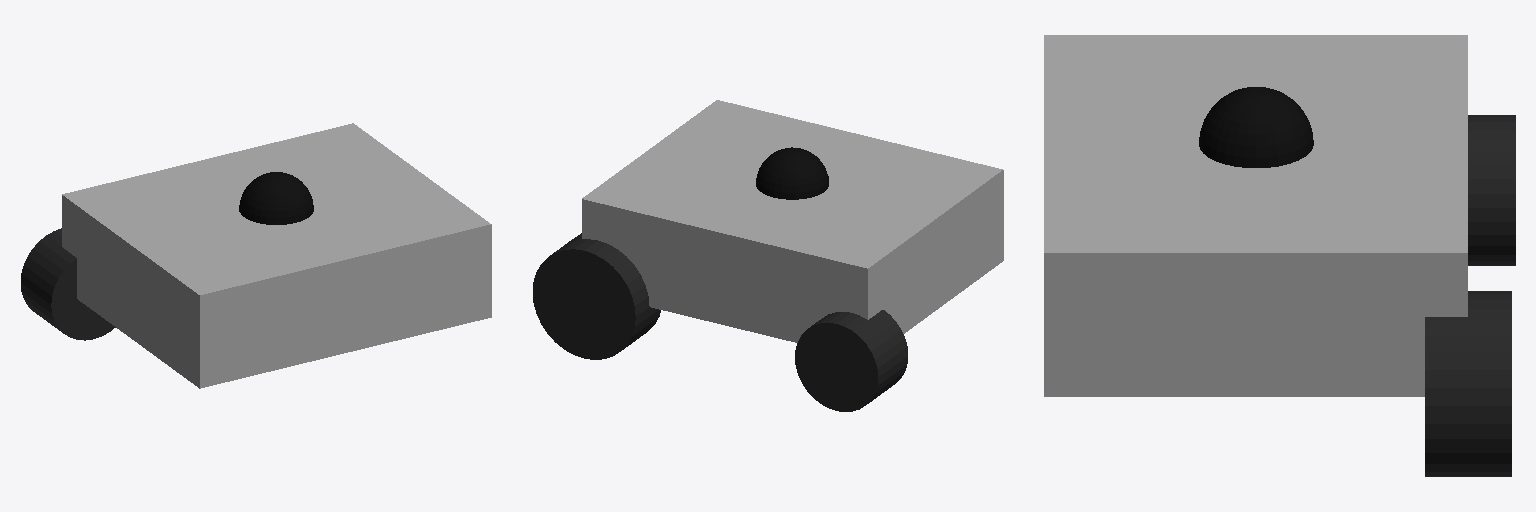
The robot description file, URDF, robot "evolved_robot":
<?xml version="1.0"?>
<robot name="evolved_robot">
  <material name="metal">
    <color rgba="0.7 0.7 0.7 1.0"/>
  </material>
  <material name="plastic">
    <color rgba="0.3 0.3 0.9 1.0"/>
  </material>
  <material name="rubber">
    <color rgba="0.1 0.1 0.1 1.0"/>
  </material>
  <material name="red">
    <color rgba="1.0 0.0 0.0 1.0"/>
  </material>
  <material name="wheel_material">
    <color rgba="0.2 0.2 0.2 1.0"/>
  </material>
  <link name="base_link">
    <visual>
      <geometry><box size="0.3500066648644581 0.2867757265282742 0.10696531036507993"/></geometry>
      <material name="metal"/>
    </visual>
    <collision>
      <geometry><box size="0.3500066648644581 0.2867757265282742 0.10696531036507993"/></geometry>
    </collision>
    <inertial>
      <mass value="5.0"/>
      <inertia ixx="0.07806824578943115" ixy="0" ixz="0" 
               iyy="0.11162186922586581" iyz="0" 
               izz="0.17062081897946715"/>
    </inertial>
  </link>
  <link name="link1">
    <visual>
      <geometry><sphere radius="0.038968192844657516"/></geometry>
      <material name="rubber"/>
    </visual>
    <collision>
      <geometry><sphere radius="0.038968192844657516"/></geometry>
    </collision>
    <inertial>
      <mass value="0.5"/>
      <inertia ixx="0.0006074080214313669" ixy="0" ixz="0" 
               iyy="0.0006074080214313669" iyz="0" 
               izz="0.0006074080214313669"/>
    </inertial>
  </link>
  <joint name="joint1" type="revolute">
    <parent link="base_link"/>
    <child link="link1"/>
    <origin xyz="0 0 0.053482655182539966" rpy="0 0 0"/>
    <axis xyz="0.6209072305563619 -0.706112610599677 -0.3404103291542989"/>
    <dynamics damping="0.7907198547146193" friction="0.1"/>
    <limit lower="-1.0519210964026422" upper="1.4084694643140252" effort="100" velocity="100"/>
  </joint>
  <link name="link2">
    <visual>
      <geometry>
        <cylinder radius="0.06309177534795424" length="0.058541667971812816"/>
      </geometry>
      <material name="wheel_material"/>
    </visual>
    <collision>
      <geometry>
        <cylinder radius="0.06309177534795424" length="0.058541667971812816"/>
      </geometry>
    </collision>
    <inertial>
      <mass value="1.0"/>
      <inertia ixx="0.001280736936549346" ixy="0" ixz="0" 
               iyy="0.001280736936549346" iyz="0" 
               izz="0.001990286058278363"/>
    </inertial>
  </link>
  <joint name="joint2" type="continuous">
    <parent link="base_link"/>
    <child link="link2"/>
    <origin xyz="0.15500333243222905 0.1433878632641371 -0.053482655182539966" rpy="1.5708 0 0"/>
    <axis xyz="0 1 0"/>
    <dynamics damping="0.6247021823949106" friction="0.1"/>
  </joint>
  <link name="link3">
    <visual>
      <geometry>
        <cylinder radius="0.05097653602202047" length="0.06395966676517956"/>
      </geometry>
      <material name="wheel_material"/>
    </visual>
    <collision>
      <geometry>
        <cylinder radius="0.05097653602202047" length="0.06395966676517956"/>
      </geometry>
    </collision>
    <inertial>
      <mass value="1.0"/>
      <inertia ixx="0.0009905550539271554" ixy="0" ixz="0" 
               iyy="0.0009905550539271554" iyz="0" 
               izz="0.0012993036124021753"/>
    </inertial>
  </link>
  <joint name="joint3" type="floating">
    <parent link="base_link"/>
    <child link="link3"/>
    <origin xyz="-0.15500333243222905 0.1433878632641371 -0.053482655182539966" rpy="1.5708 0 0"/>
    <axis xyz="0 1 0"/>
    <dynamics damping="0.9386368848209998" friction="0.1"/>
  </joint>
</robot>

--- What the picture shows (computed from the rendered views, not written in the file) ---
The picture shows the robot from 3 angles, left to right: view 1: azimuth 30°, elevation 25°; view 2: azimuth 150°, elevation 25°; view 3: azimuth 270°, elevation 25°; orthographic projection.
Robot: evolved_robot — 4 links, 3 joints (1 revolute, 1 continuous, 1 floating); root link base_link; default pose: all joints at 0.
Visible links, largest first — view 1: base_link, link3, link1; view 2: base_link, link2, link3, link1; view 3: base_link, link2, link1, link3.
Link boxes in pixels (x1,y1,x2,y2): base_link: (62, 123, 491, 388); link3: (21, 228, 115, 340); link1: (239, 172, 313, 224); base_link: (582, 100, 1003, 342); link2: (533, 233, 660, 359); link3: (795, 310, 907, 411); link1: (756, 147, 828, 199); base_link: (1044, 35, 1467, 396); link2: (1425, 291, 1511, 476); link1: (1199, 87, 1313, 167); link3: (1468, 115, 1515, 265).
Size in the robot's own frame: 0.4241 by 0.3188 by 0.209 metres.
Geometry: primitives only (box / cylinder / sphere), no mesh files.